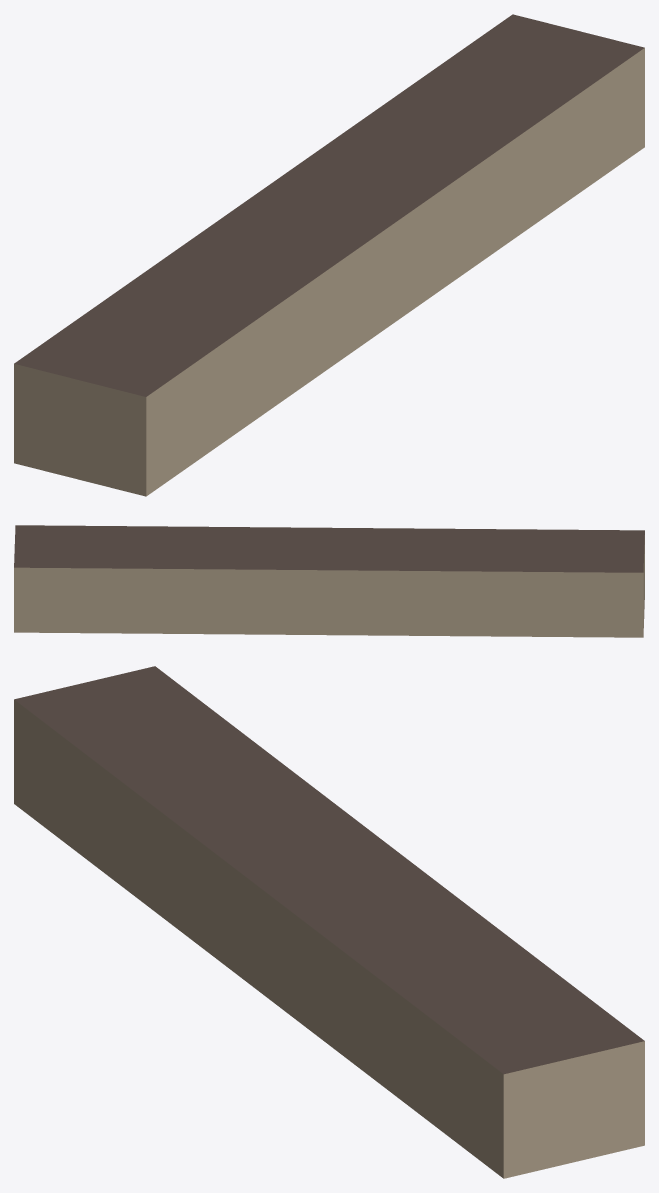
3 views of the same model, one above another, from view 1: azimuth 30°, elevation 25°; view 2: azimuth 150°, elevation 25°; view 3: azimuth 270°, elevation 25° (orthographic). The views are drawn at different scales.
Parts seen in each view (by area): view 1: HP-w859447938; view 2: HP-w859447938; view 3: HP-w859447938.
Boxes of the visible parts, bbox=[...] form: HP-w859447938: bbox=[14, 14, 644, 496]; HP-w859447938: bbox=[14, 525, 644, 637]; HP-w859447938: bbox=[14, 666, 644, 1178].
Size of the model in its own units: 75.4 by 9 by 49.25.
